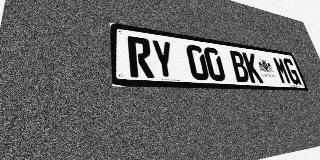0: (185, 44, 210, 81), (203, 46, 226, 81)
B: (228, 50, 251, 83)
G: (282, 58, 302, 85)
K: (242, 52, 264, 83)
M: (272, 56, 292, 84)
R: (127, 36, 154, 78)
Y: (150, 39, 177, 79)
